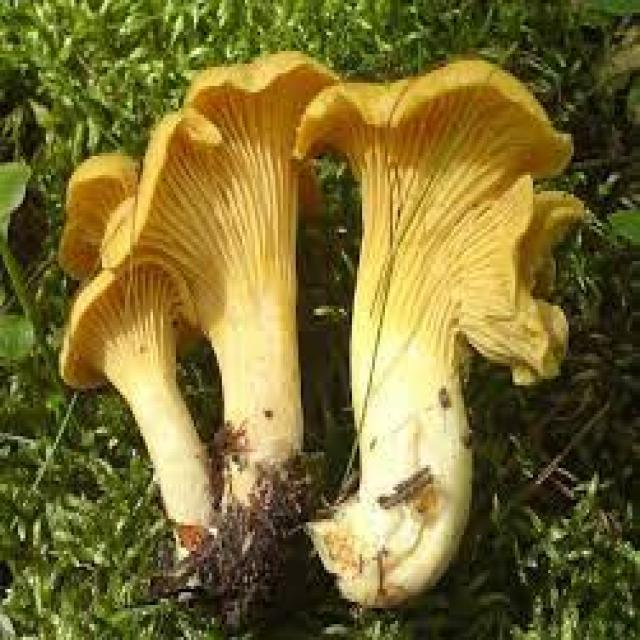chanterelle: (291, 60, 586, 611), (97, 51, 342, 630), (61, 264, 209, 532)
